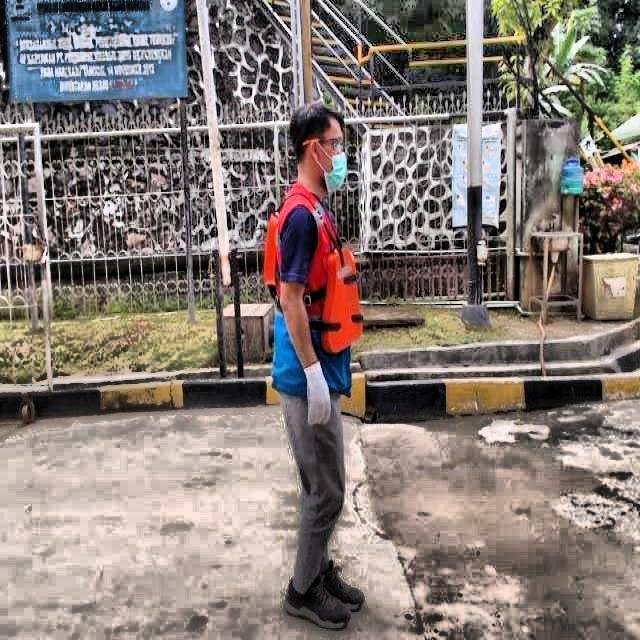safety_jacket: (268, 181, 364, 398)
